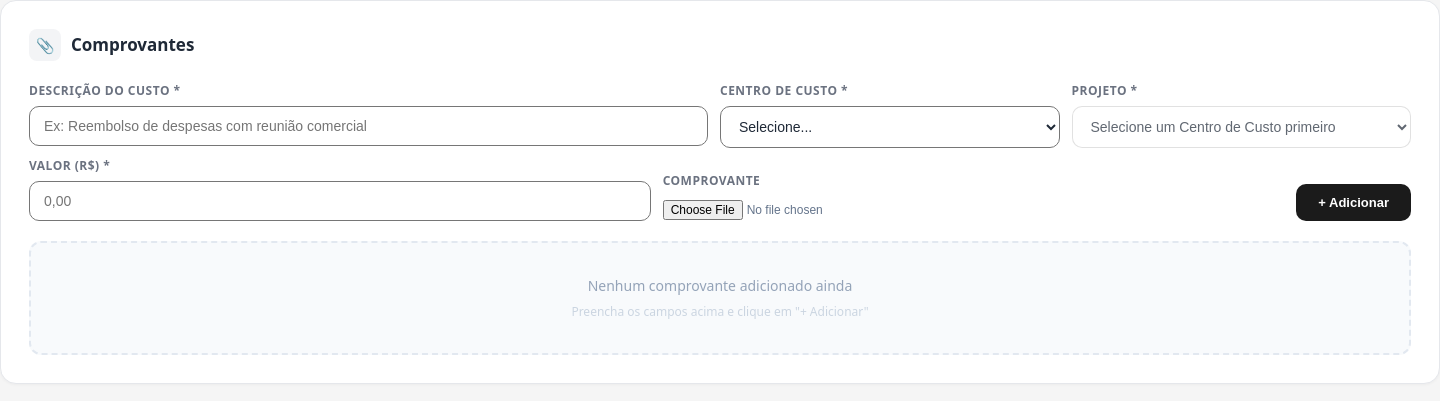
it: ComprovantesSection › desabilita Projeto até um Centro de custo ser escolhido, e filtra as opções por centro
Expected: the dropdown named "Projeto" is disabled, [1072,106,1411,148]
Select "AI Lab" in the dropdown named "Centro de custo" at coordinates (890, 127), box [720,106,1060,148]
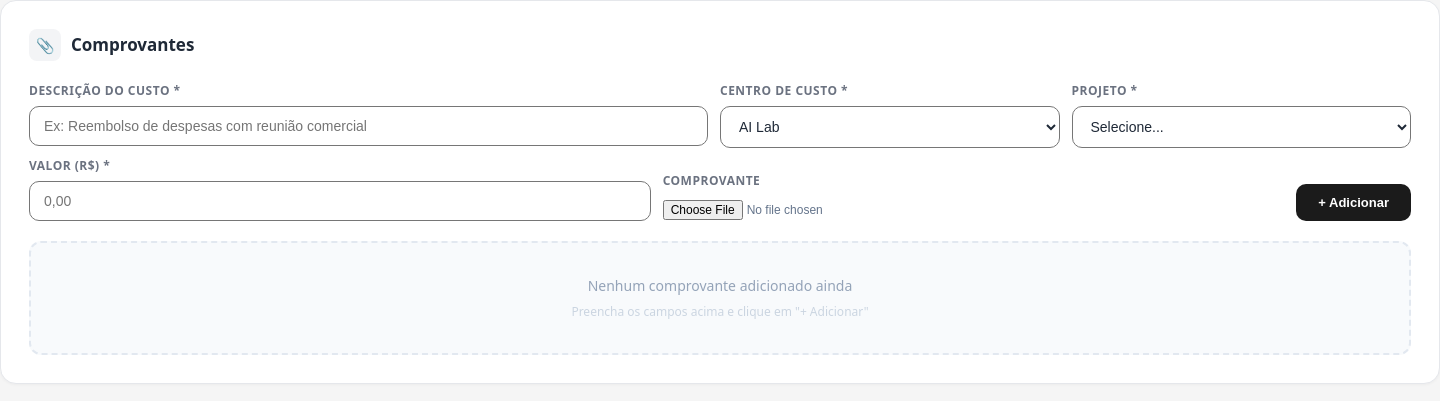
Now the dropdown named "Projeto" is enabled, box [1072,106,1411,148]
